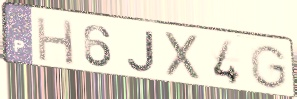4: (211, 38, 242, 86)
6: (82, 23, 115, 69)
G: (248, 43, 289, 91)
H: (35, 15, 77, 68)
J: (125, 30, 157, 75)
X: (162, 29, 204, 84)
